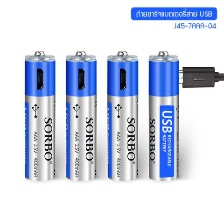battery: (144, 48, 181, 181), (62, 50, 99, 183), (22, 50, 57, 184), (105, 48, 139, 181)
